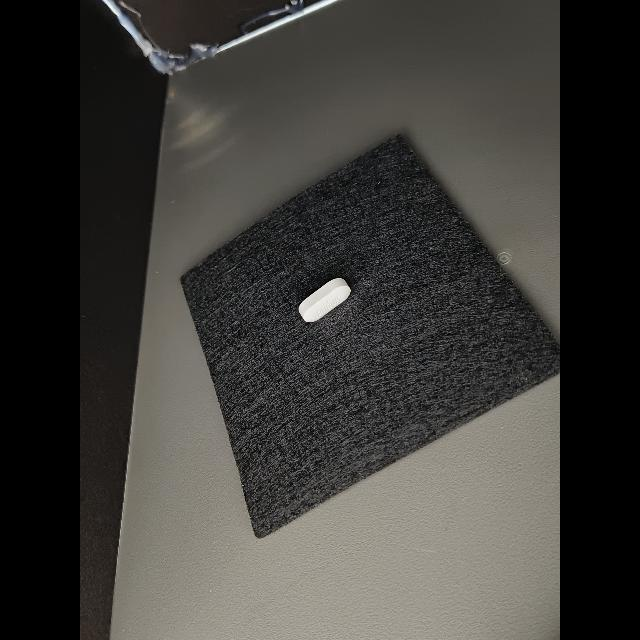Intact Pill: (298, 278, 351, 322)
